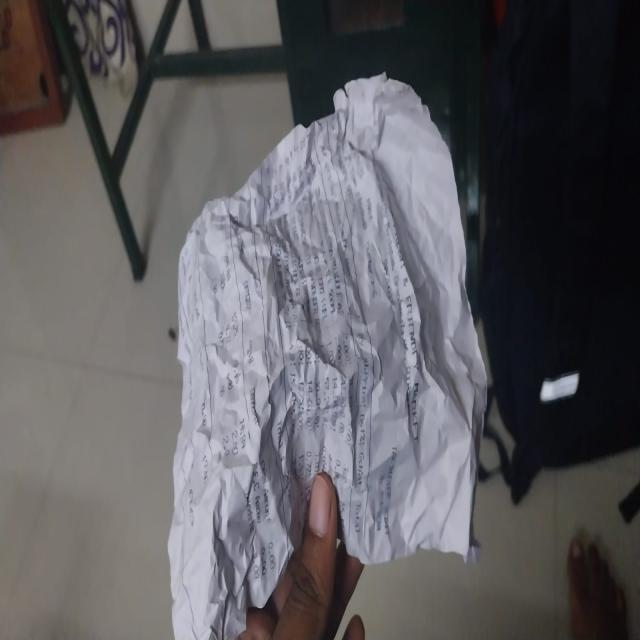Paper - Recyclable: (167, 70, 488, 638)
